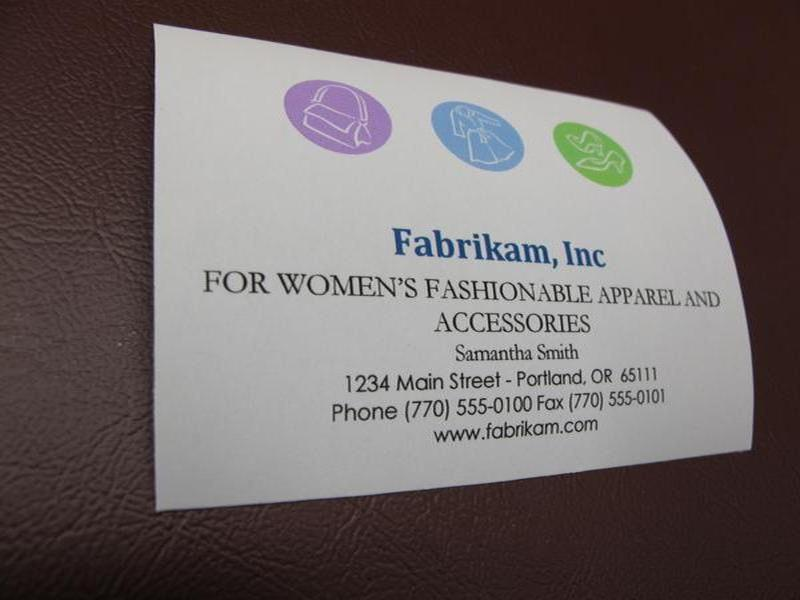card: (146, 20, 762, 511)
